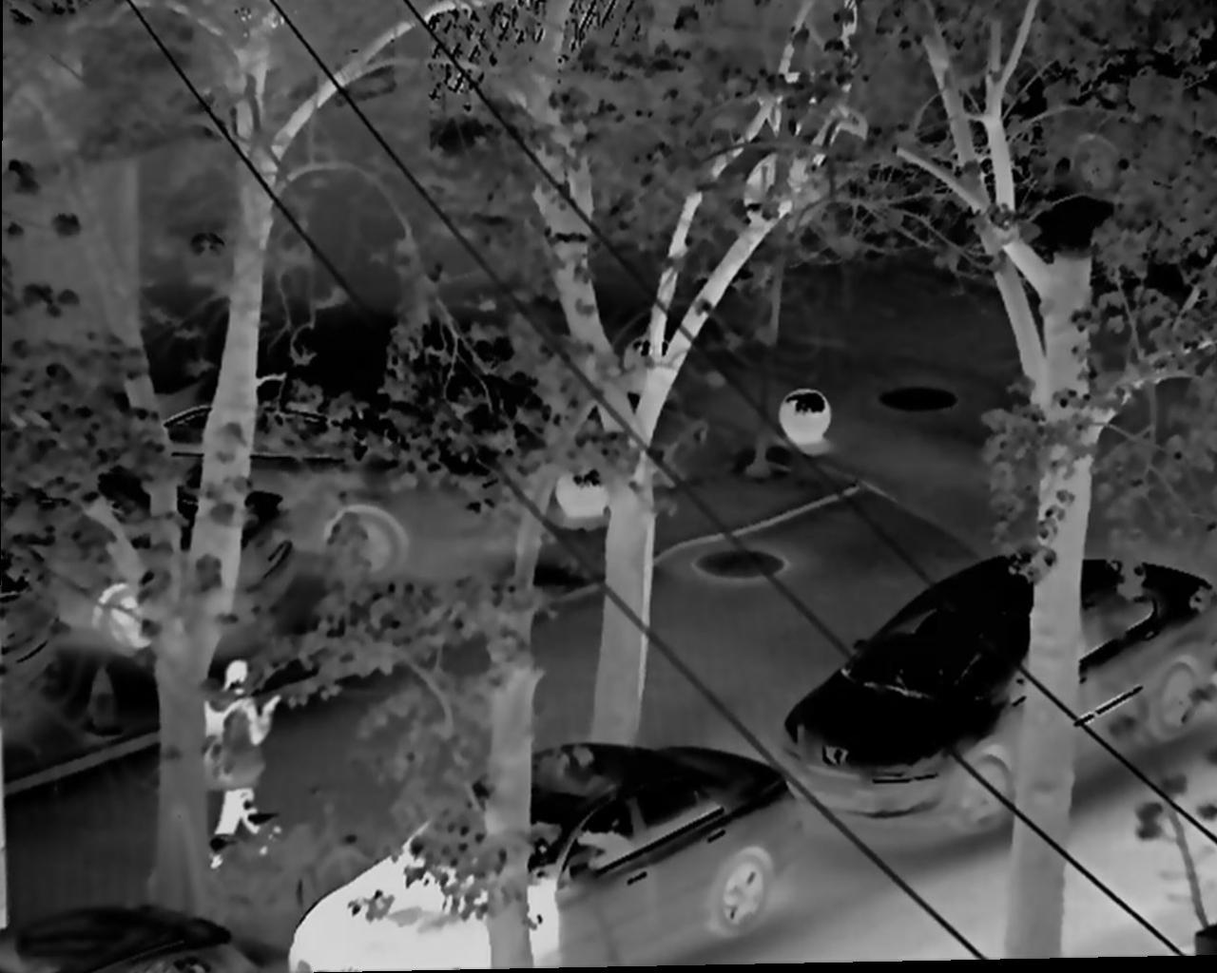person: (197, 645, 284, 869)
